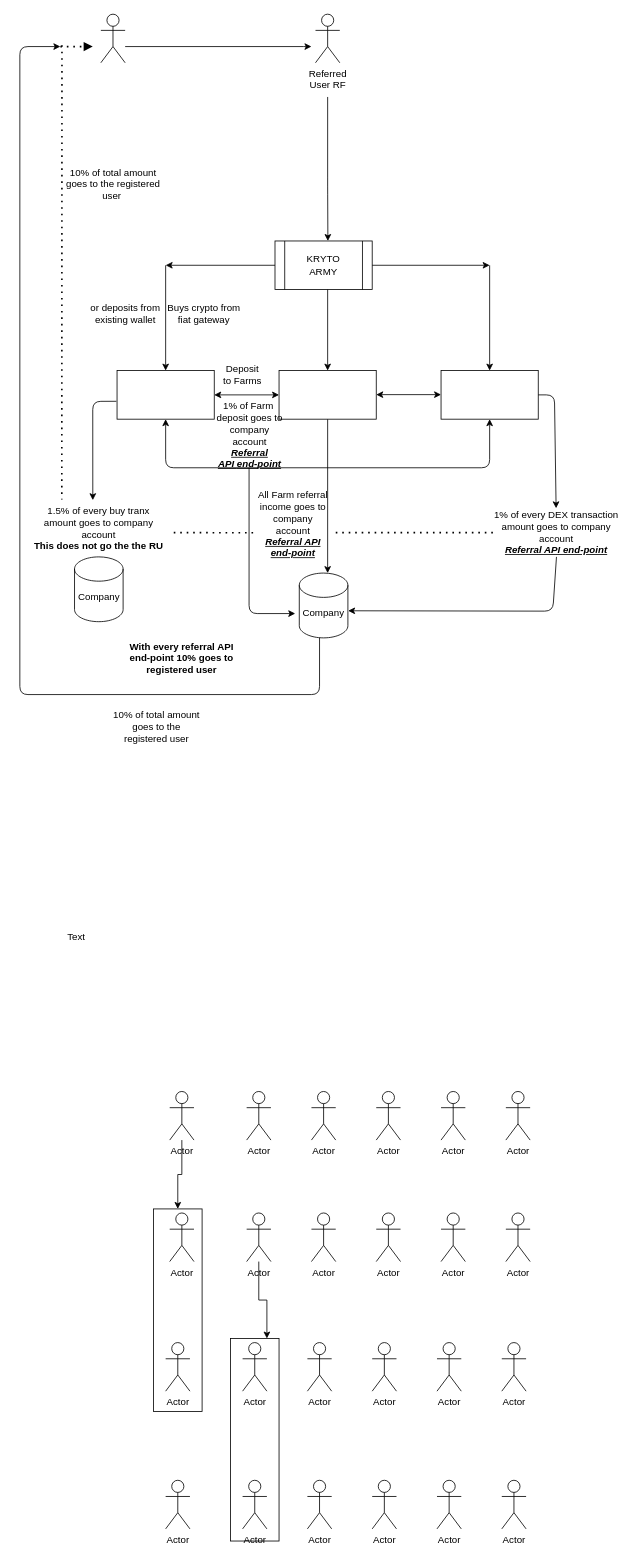
Some shapes in this 637 by 1560 pixel diagram are drawn without their labels. The box of each missing label's shape, as (x1, y1, x2, y2) in pixels:
DEX: (440, 370, 538, 419)
Farms: (278, 370, 376, 419)
Registered User RU: (100, 13, 125, 63)
Wallet: (116, 370, 214, 419)
